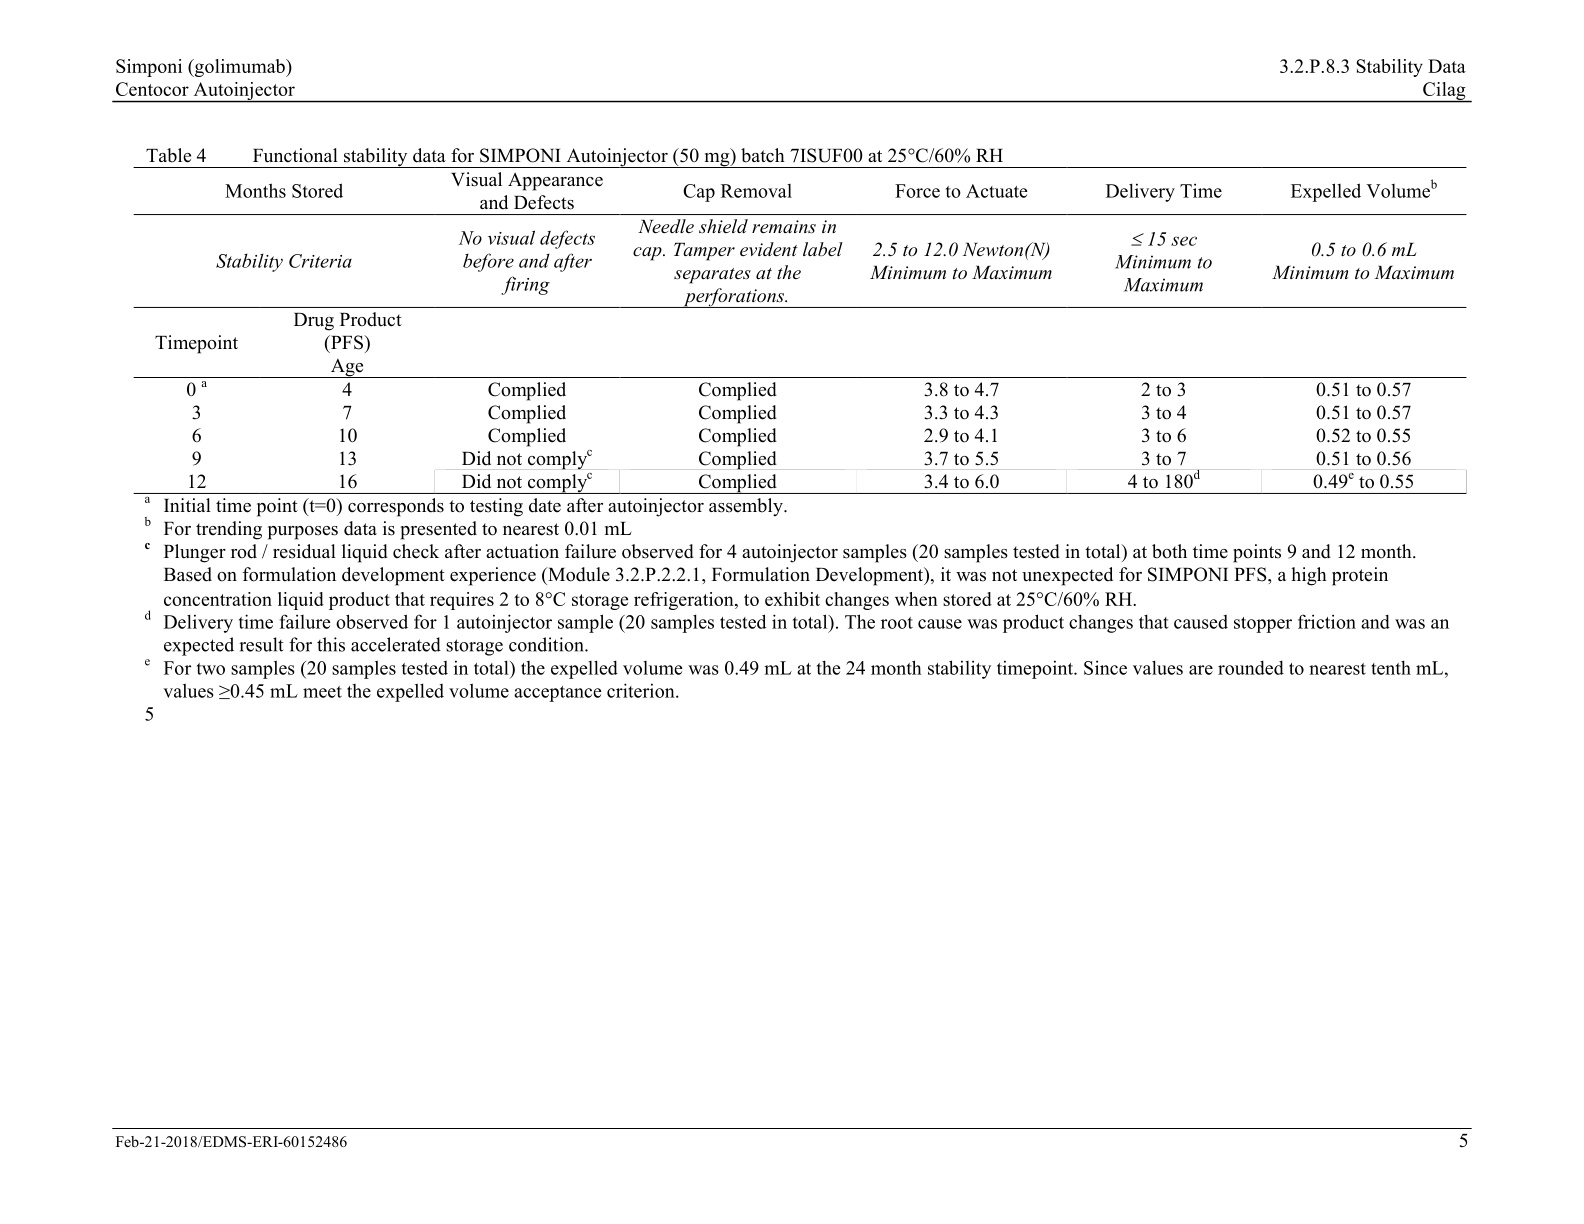partial_lined: (132, 166, 1468, 495)
